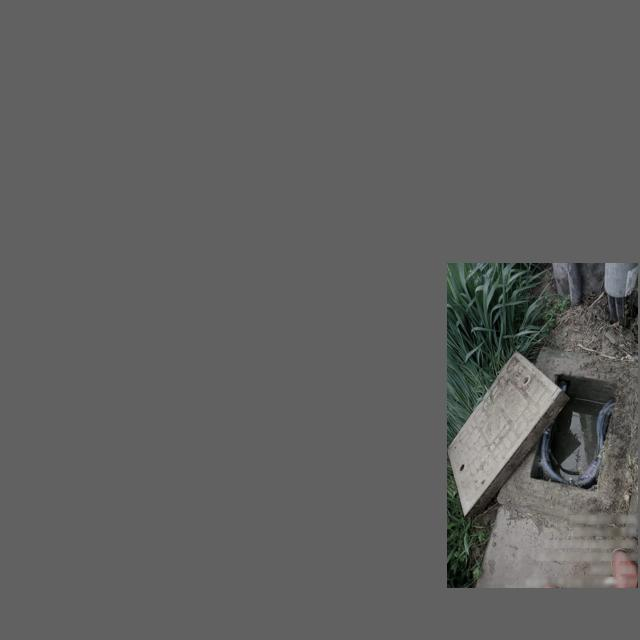uncovered: (448, 347, 637, 522)
